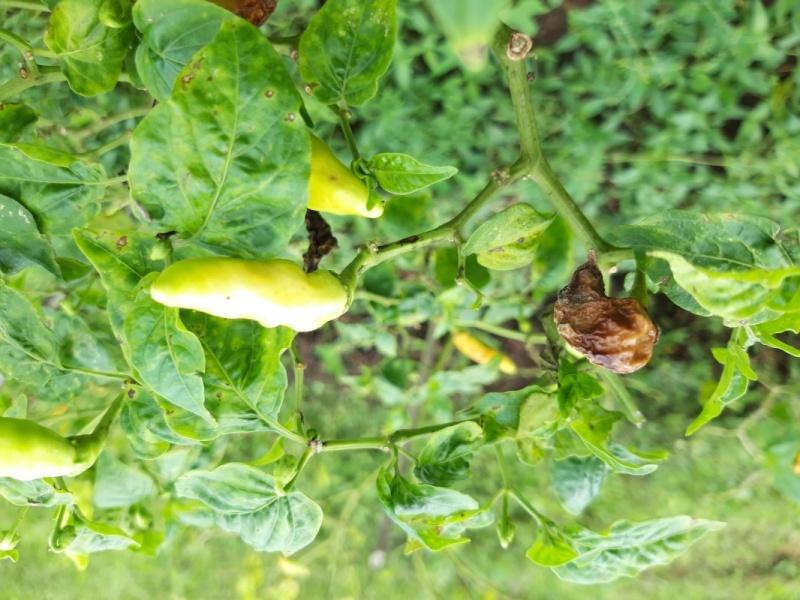antraknosa: (554, 252, 657, 374)
cabai_normal: (153, 256, 347, 332), (300, 132, 380, 219), (1, 419, 78, 480)
